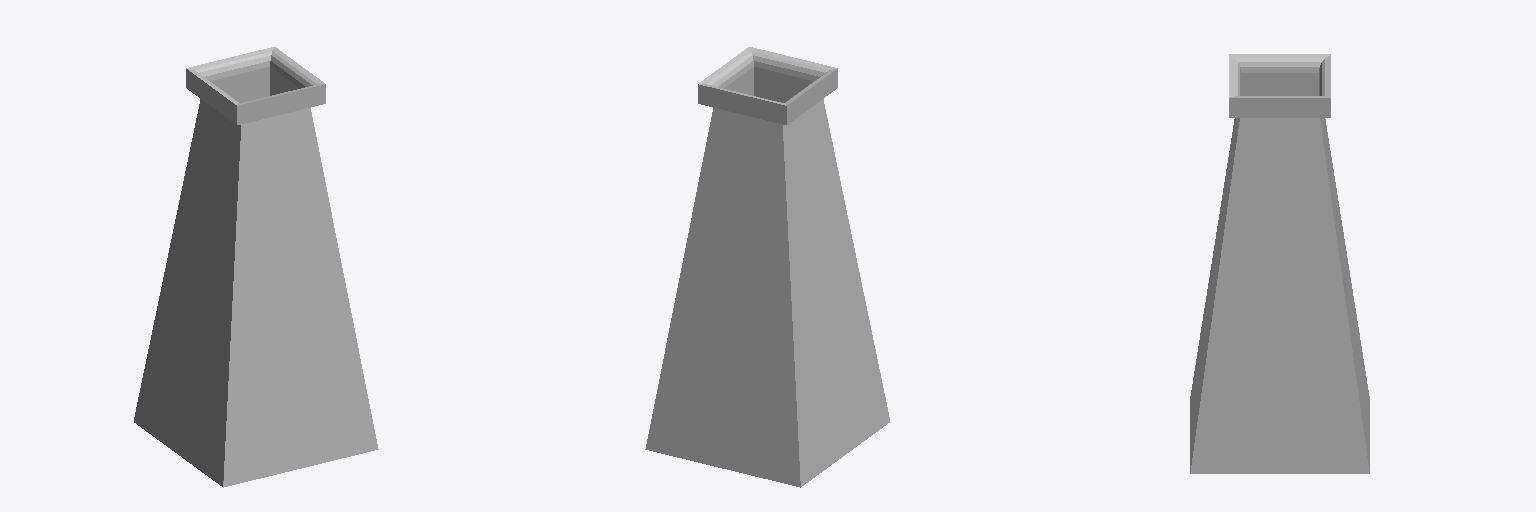
Rendered from hoekige_vaas_model_Fixed.obj.
3 renders of one model, left to right at view 1: azimuth 30°, elevation 25°; view 2: azimuth 150°, elevation 25°; view 3: azimuth 270°, elevation 25°, orthographic.
Visible parts, largest first — view 1: hoekige_vaas_model; view 2: hoekige_vaas_model; view 3: hoekige_vaas_model.
Boxes of the visible parts, box(x1,y1,x2,y2) form: hoekige_vaas_model: box(134, 47, 378, 487); hoekige_vaas_model: box(645, 47, 889, 487); hoekige_vaas_model: box(1190, 54, 1369, 473).
Bounding box in the file's own units: 3.31 × 7.31 × 3.31.